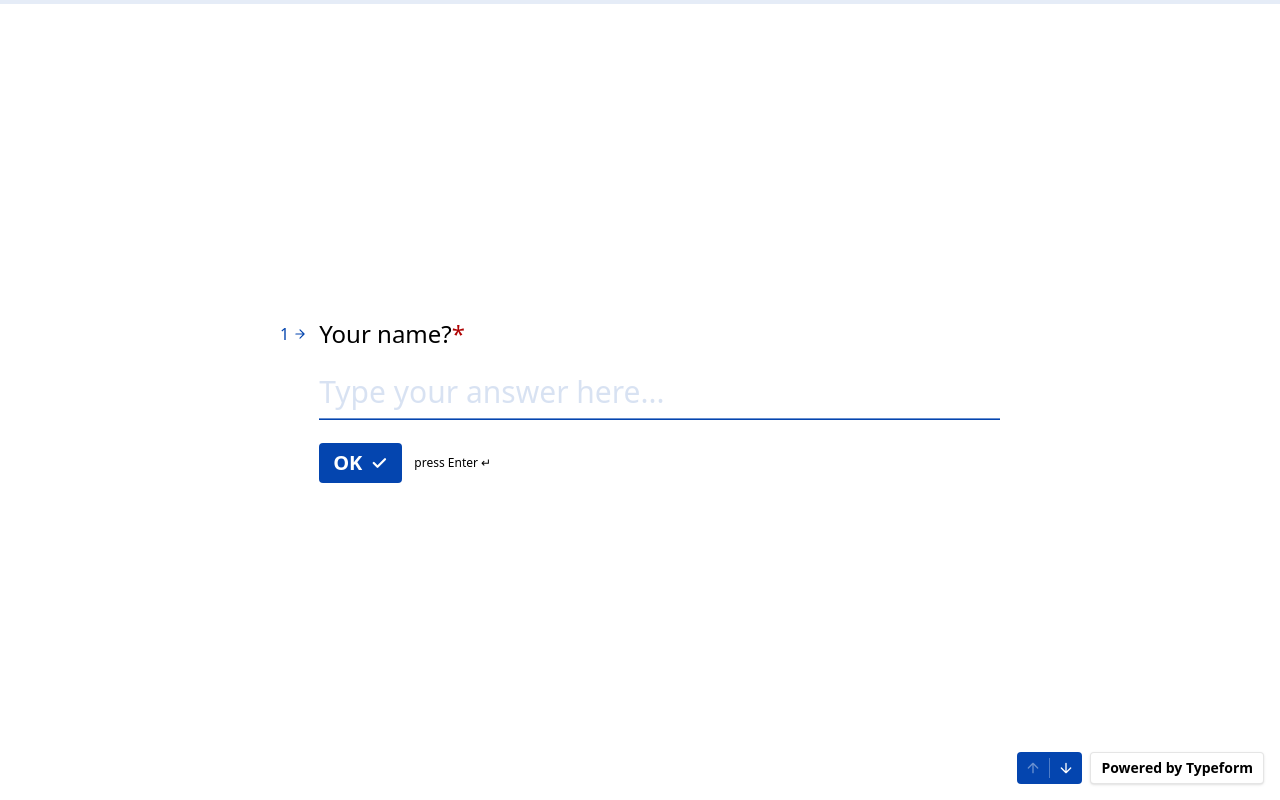
Test: Respondent › supports hotkeys and going back
Type "Sam" into the field with placeholder "Type your answer here..." at (660, 396), box [319,374,1000,418]
Then press Enter
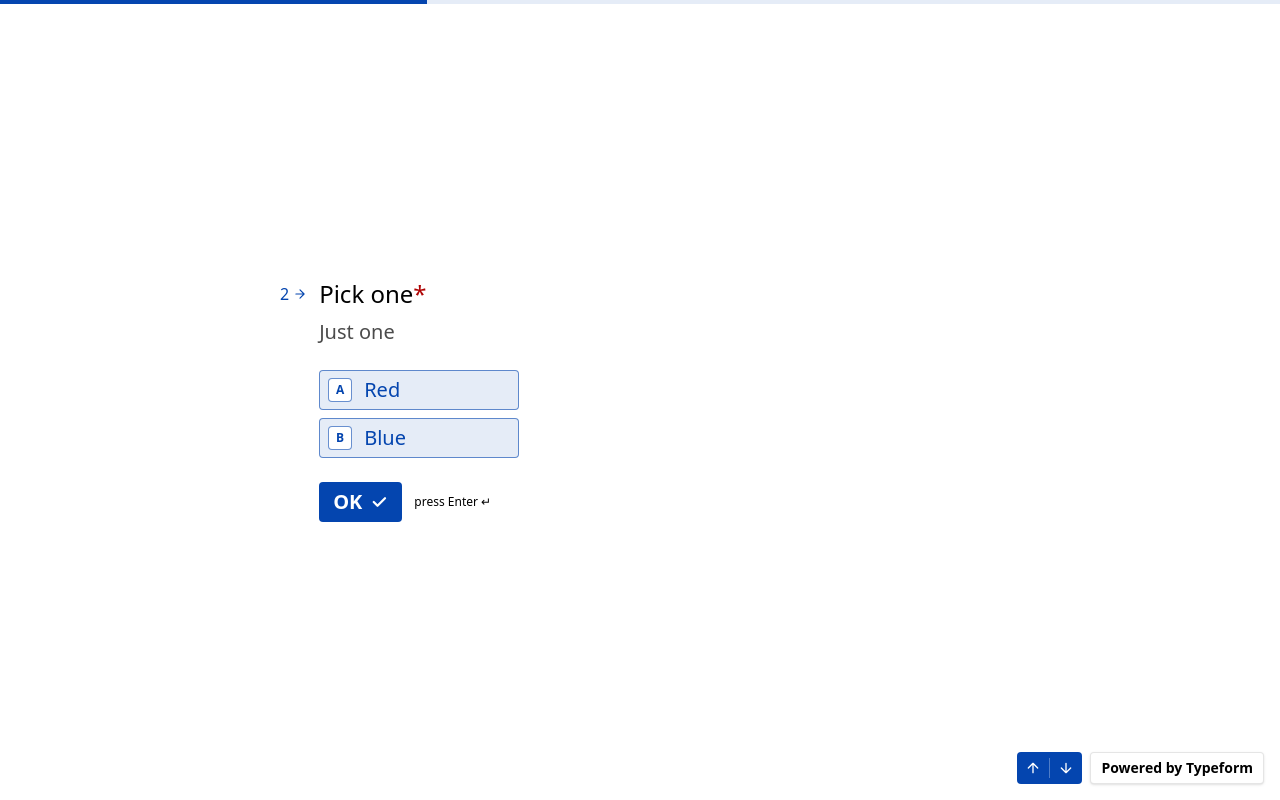
Check: the heading "Pick one*" is shown, box [319,277,427,310]
Press Arrowup
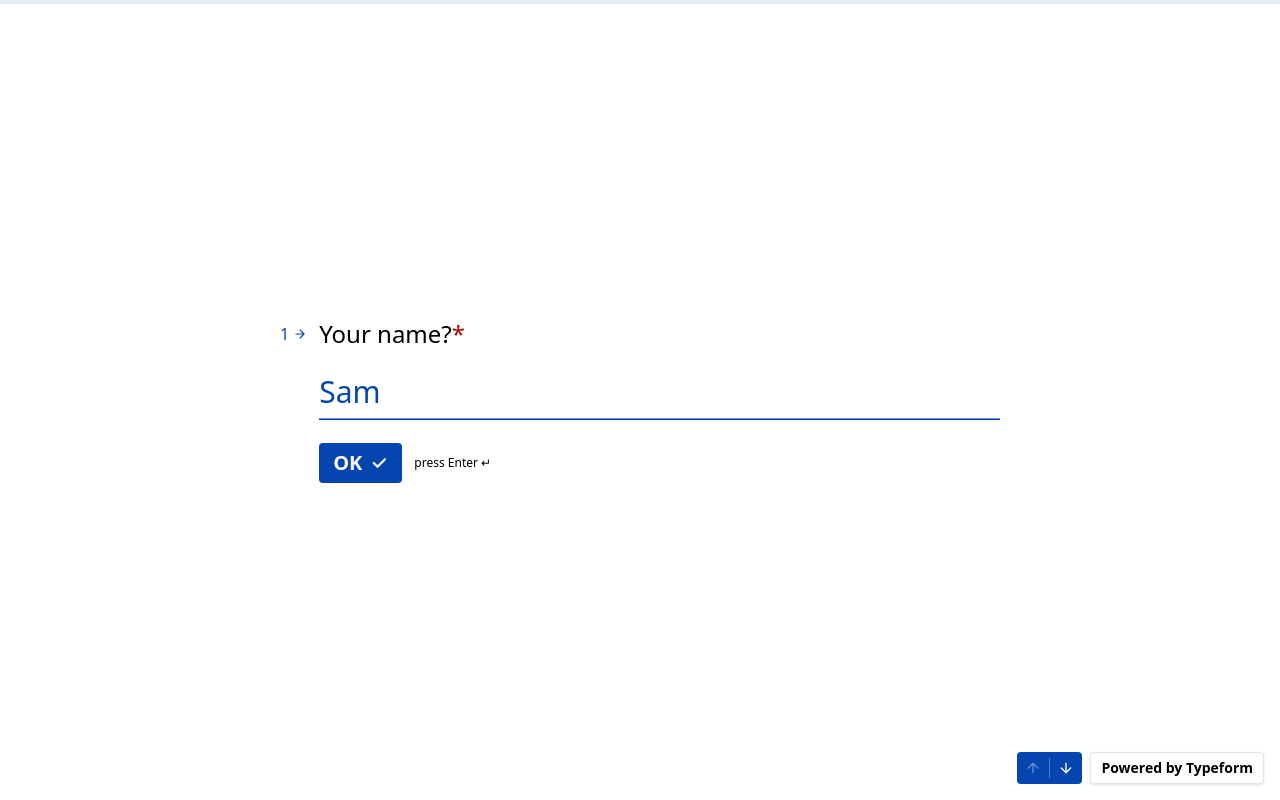
Check: the heading "Your name?*" is shown, box [319,316,465,350]
Check: the field showing "Sam" is shown, box [319,374,1000,418]
